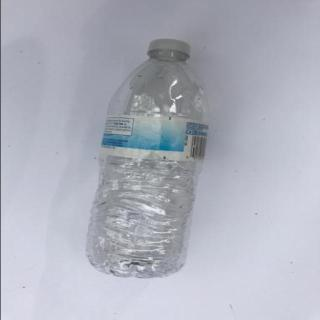Anorganik: (74, 36, 224, 285)
